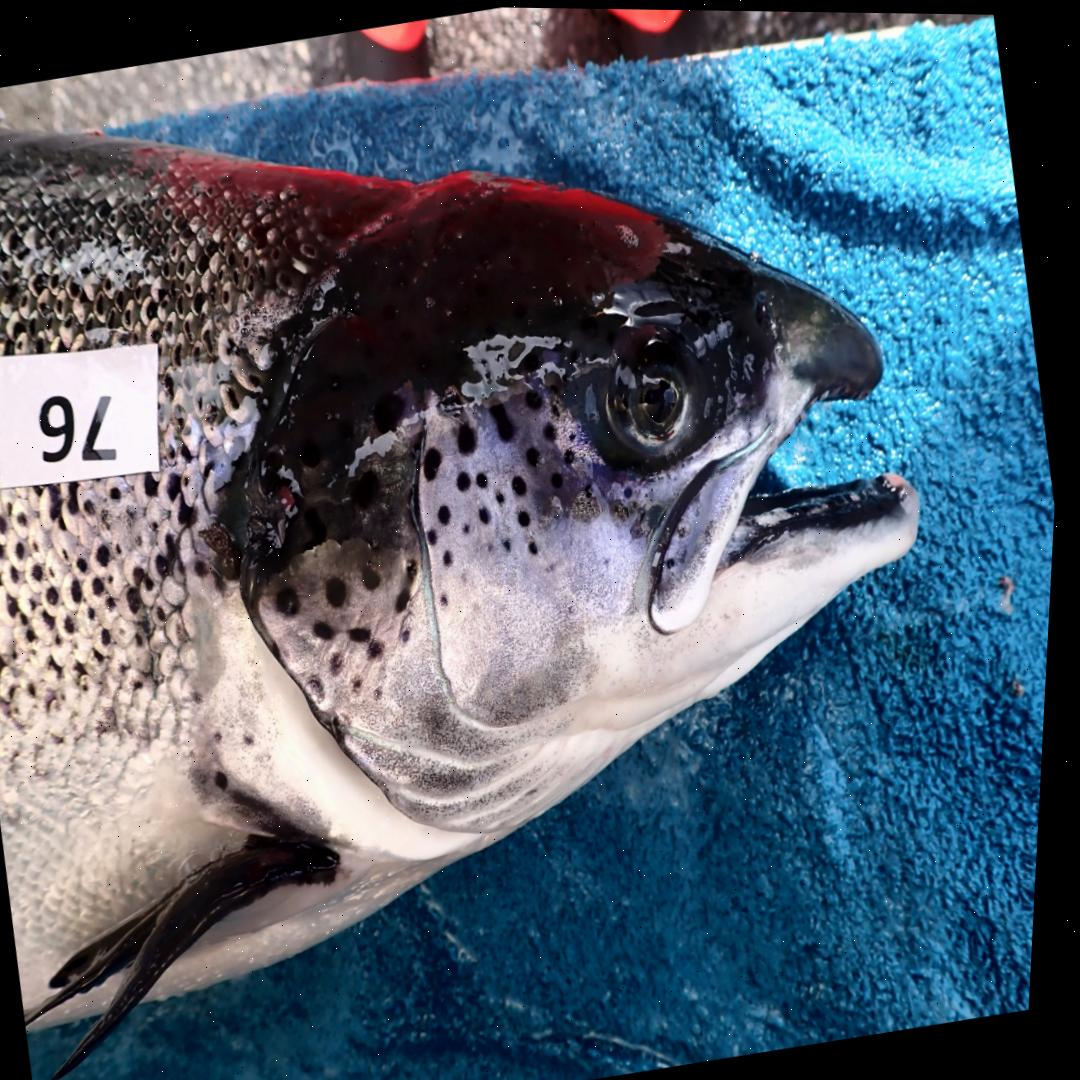spot: (375, 390, 409, 432), (493, 397, 518, 439), (357, 468, 383, 507), (330, 574, 352, 606), (281, 585, 304, 614), (460, 421, 480, 451), (427, 447, 445, 479), (365, 563, 386, 589), (319, 619, 340, 639), (372, 637, 392, 658), (400, 585, 416, 610), (315, 674, 332, 697), (528, 386, 546, 407), (355, 624, 377, 641), (460, 468, 475, 489), (410, 557, 424, 578), (337, 652, 350, 674), (529, 444, 544, 463), (442, 502, 456, 522), (516, 473, 530, 493), (482, 503, 494, 521), (547, 420, 559, 438), (523, 507, 535, 524), (479, 470, 492, 485), (567, 445, 579, 461), (431, 526, 442, 542), (556, 469, 567, 485), (447, 547, 458, 562), (358, 674, 368, 690), (506, 534, 516, 550), (406, 626, 416, 641), (380, 684, 390, 699), (533, 537, 542, 552), (499, 489, 509, 502), (554, 401, 564, 414), (627, 485, 636, 497), (445, 592, 453, 603), (467, 522, 474, 532), (572, 430, 579, 440)
